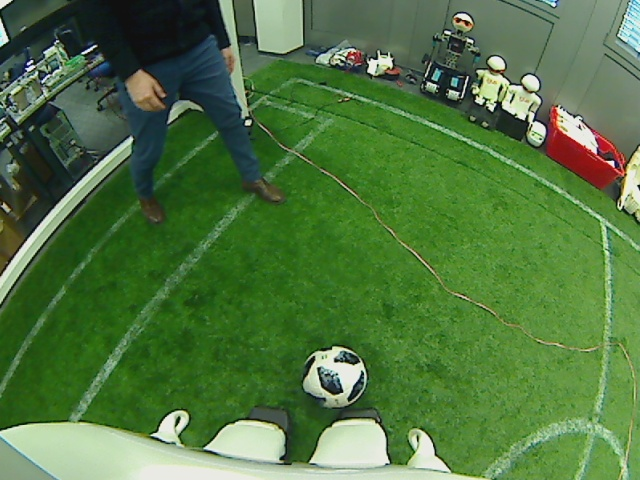ball: (298, 343, 369, 409)
